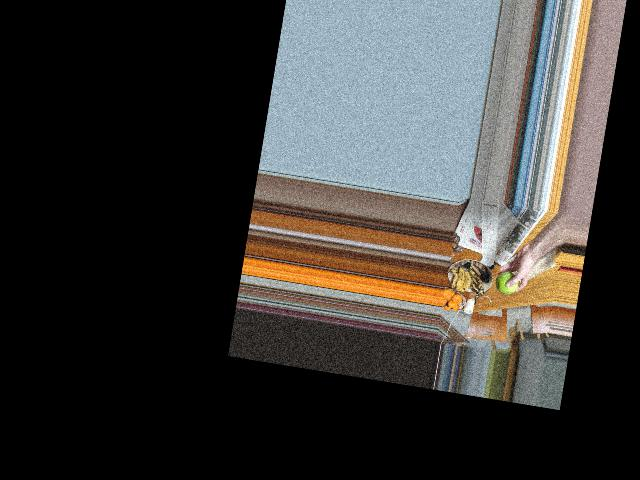apple: (493, 267, 517, 296)
